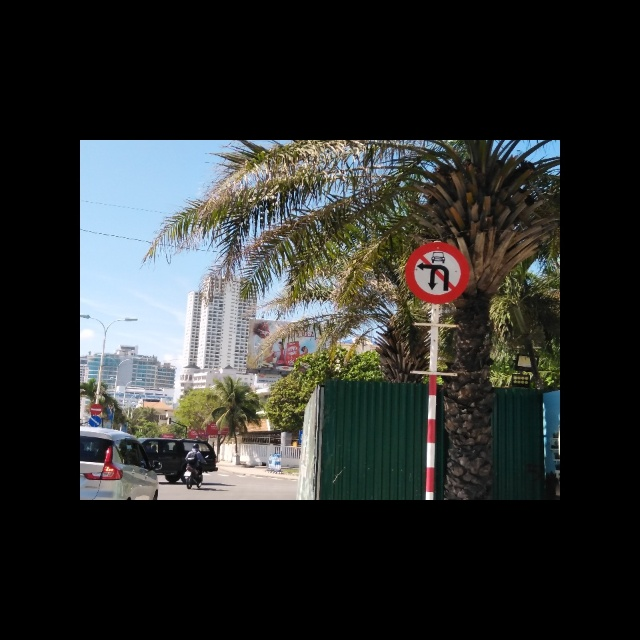Cấm xe ô tô quay đầu và rẽ trái: (402, 241, 472, 304)
